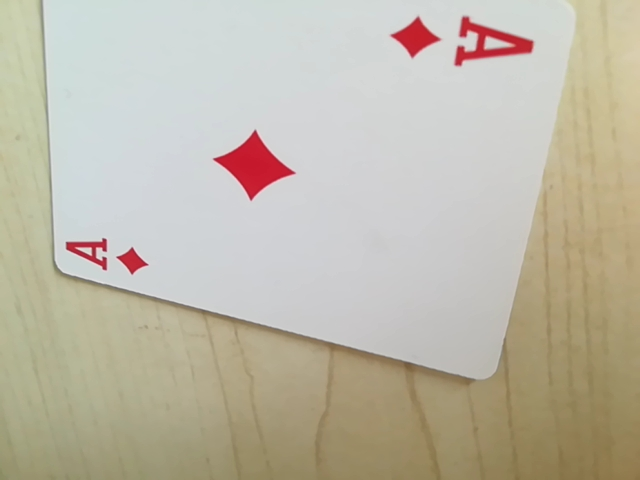fk a: (384, 6, 541, 72), (59, 226, 158, 283)
